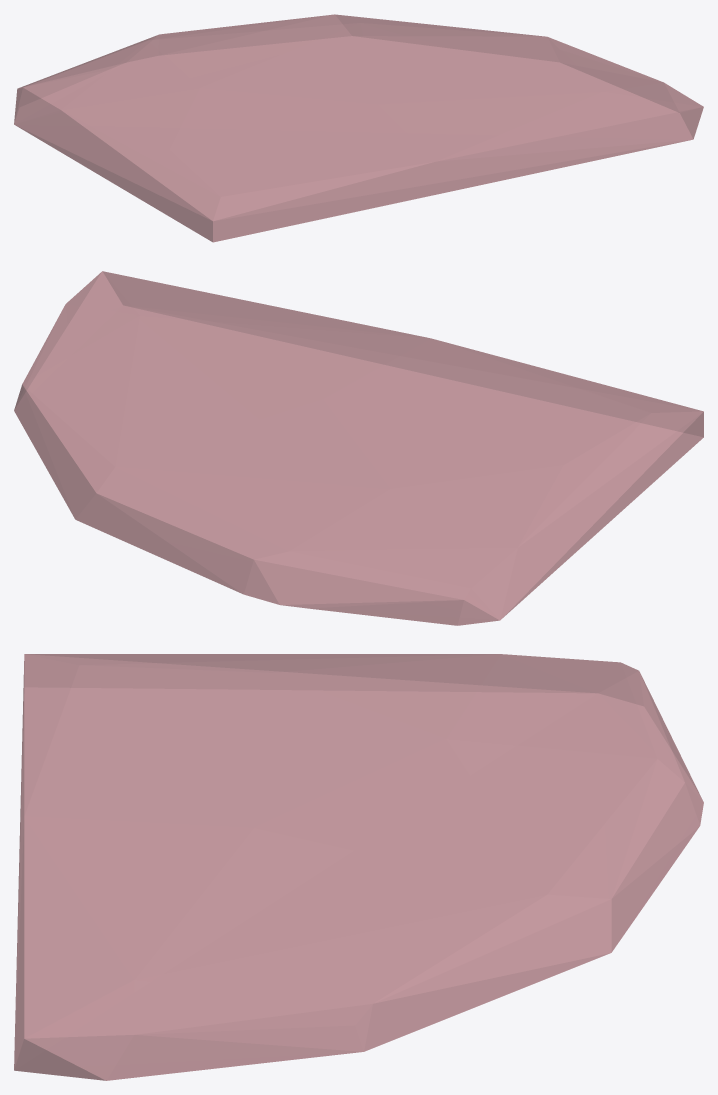
3 views of the same model, one above another, from view 1: azimuth 30°, elevation 25°; view 2: azimuth 150°, elevation 25°; view 3: azimuth 270°, elevation 25° (orthographic). The views are drawn at different scales.
Parts seen in each view (by area): view 1: Shape_IndexedFaceSet.004_Shape_IndexedFaceSet.3498; view 2: Shape_IndexedFaceSet.004_Shape_IndexedFaceSet.3498; view 3: Shape_IndexedFaceSet.004_Shape_IndexedFaceSet.3498.
Boxes of the visible parts, left/top/right/bottom form: Shape_IndexedFaceSet.004_Shape_IndexedFaceSet.3498: left=14, top=14, right=703, bottom=242; Shape_IndexedFaceSet.004_Shape_IndexedFaceSet.3498: left=14, top=271, right=703, bottom=625; Shape_IndexedFaceSet.004_Shape_IndexedFaceSet.3498: left=14, top=654, right=703, bottom=1080.
Bounding box in the file's own units: 0.3861 × 0.0277 × 0.2884.
